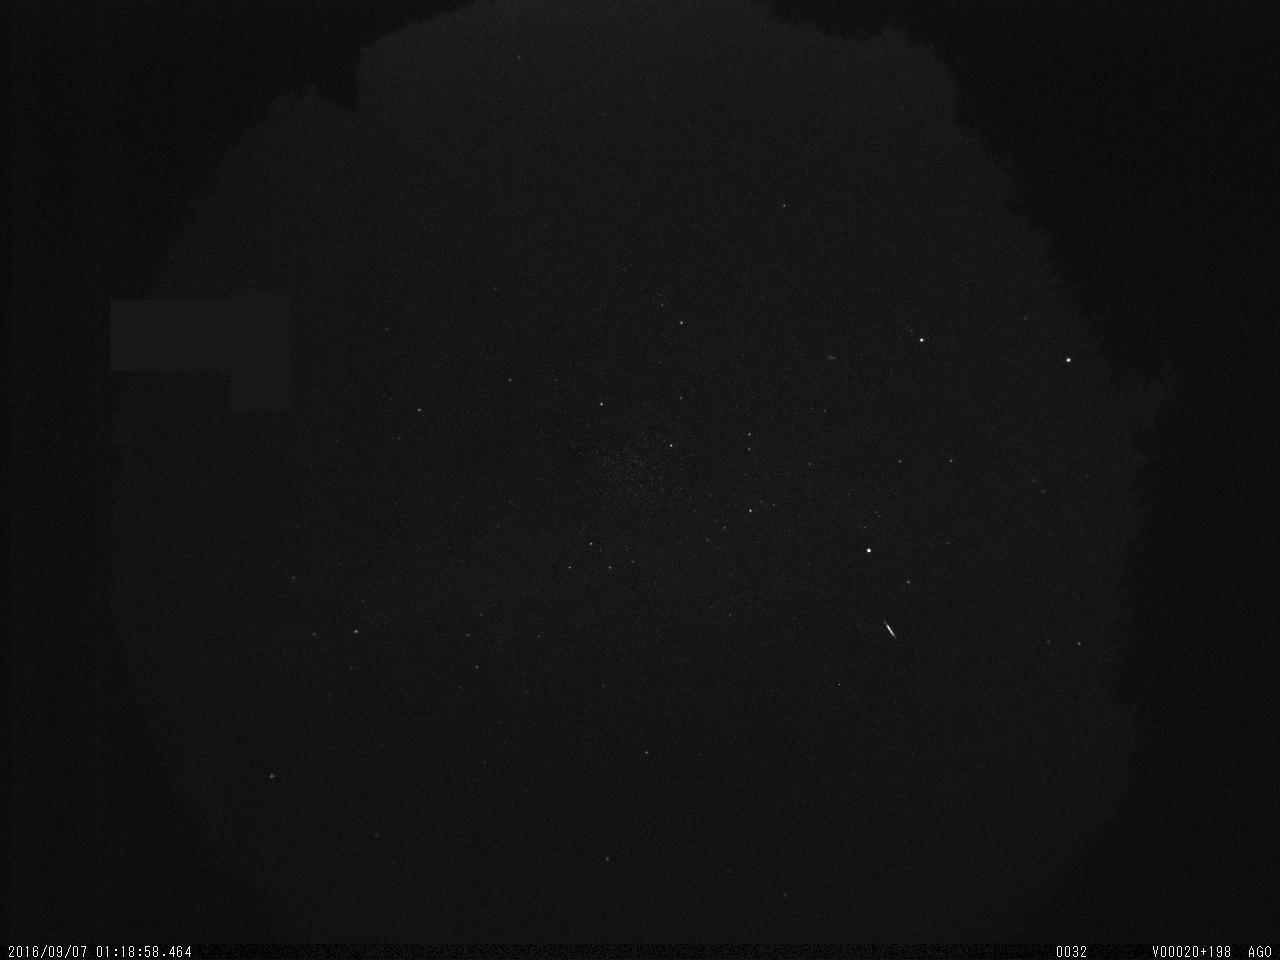meteor: (881, 619, 905, 643)
